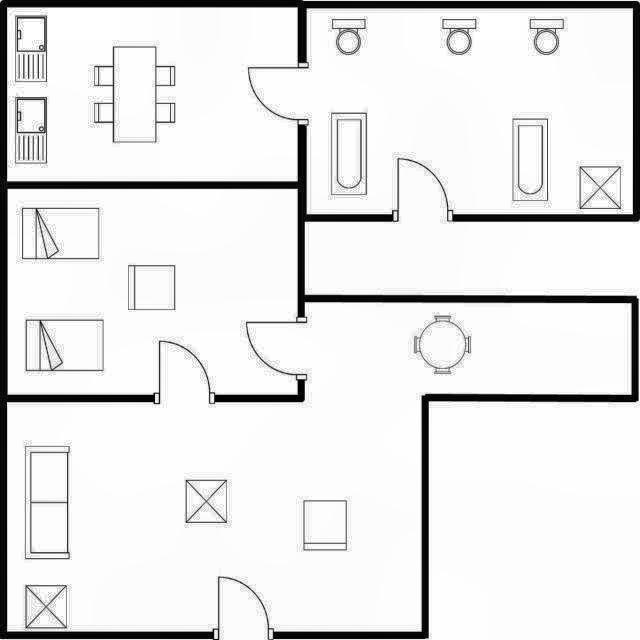room: (7, 302, 632, 632), (307, 8, 633, 214), (7, 189, 298, 395), (7, 7, 298, 181)
